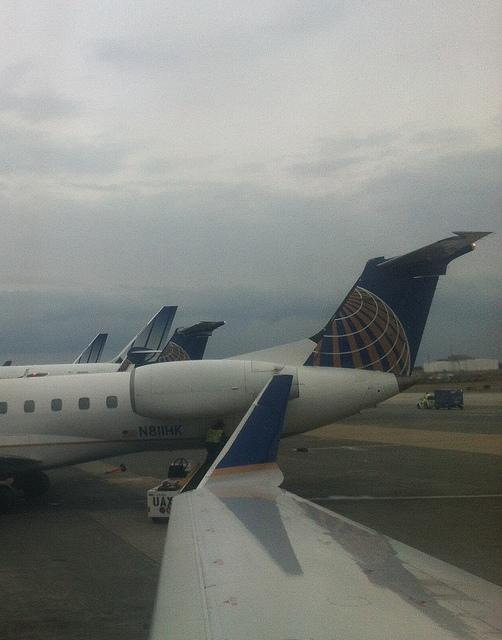truck: (146, 458, 193, 524), (417, 389, 464, 410)
